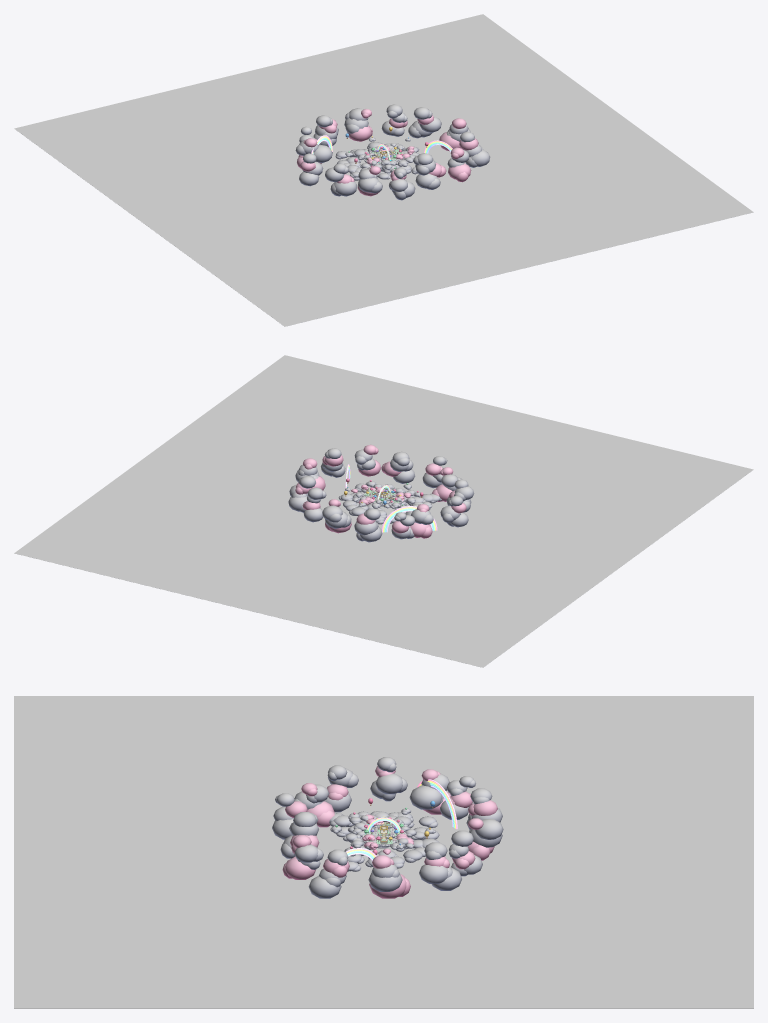
File: zenith.glb
3 renders of one model, top to bottom at view 1: azimuth 30°, elevation 25°; view 2: azimuth 150°, elevation 25°; view 3: azimuth 270°, elevation 25°, orthographic. The views are drawn at different scales.
Visible parts, largest first — view 1: flat:cloud, flat:cloud blush; view 2: flat:cloud, flat:cloud blush; view 3: flat:cloud, flat:cloud blush.
Boxes of the visible parts, <box> form: flat:cloud: <box>14,14,753,326</box>; flat:cloud blush: <box>297,109,478,196</box>; flat:cloud: <box>14,355,753,667</box>; flat:cloud blush: <box>295,444,466,538</box>; flat:cloud: <box>14,696,753,1008</box>; flat:cloud blush: <box>282,766,497,898</box>.
Size of the model in its own units: 1000 by 70.86 by 1000.
